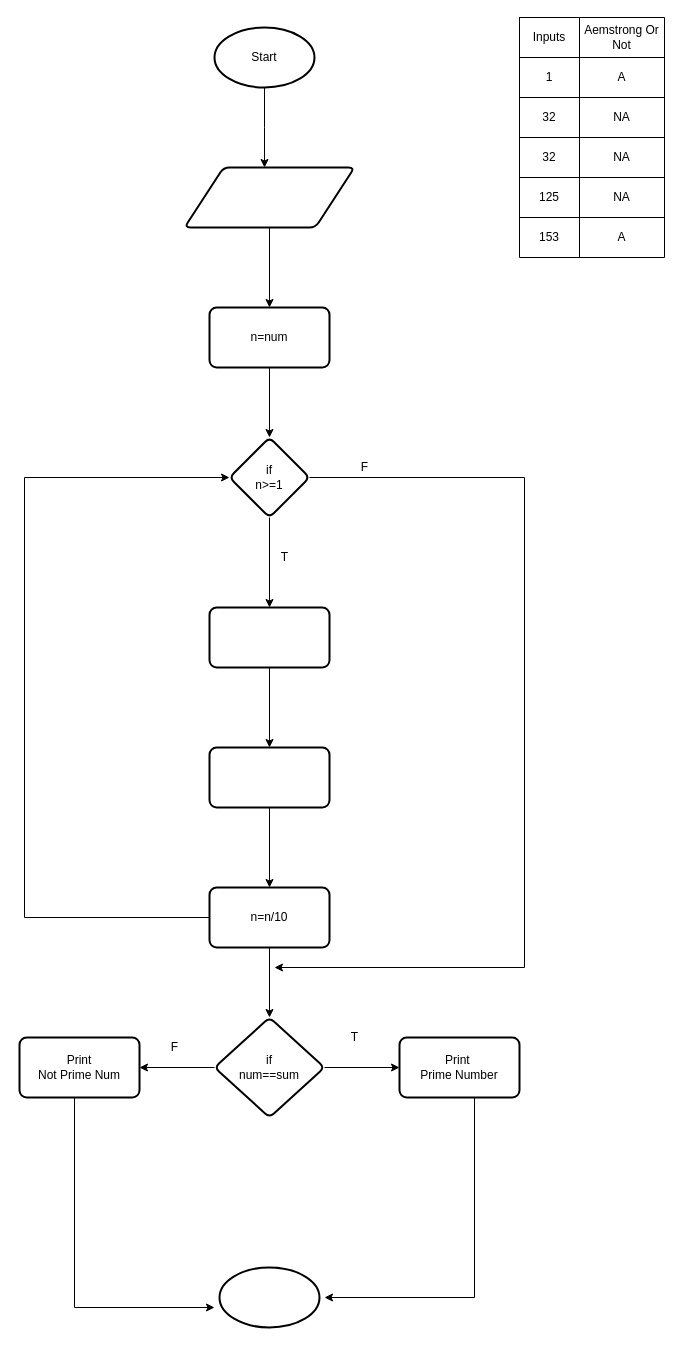
The diagram is 682 pixels wide and 1346 high, and some of its shapes have lost their labels. The shapes that lost their labels are listed below. From the top down, each one's centre as x and y in pixels, then its label:
At point 269,197: "inputs n,r,sum=0".
At point 269,637: "r=n%10".
At point 269,777: "sum=sum+(r*r*r)".
At point 269,1297: "Stop".
